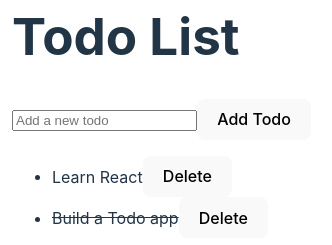
TodoList › deletes a todo
This screenshot has width=332, height=245.
Step 1. Click the button "Delete" next to "Learn React" → [187, 176], box [143,156,232,197]
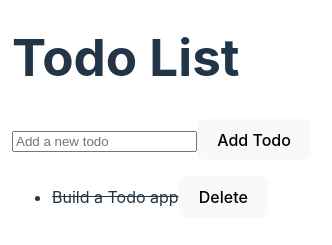
Now the text "Learn React" is gone
